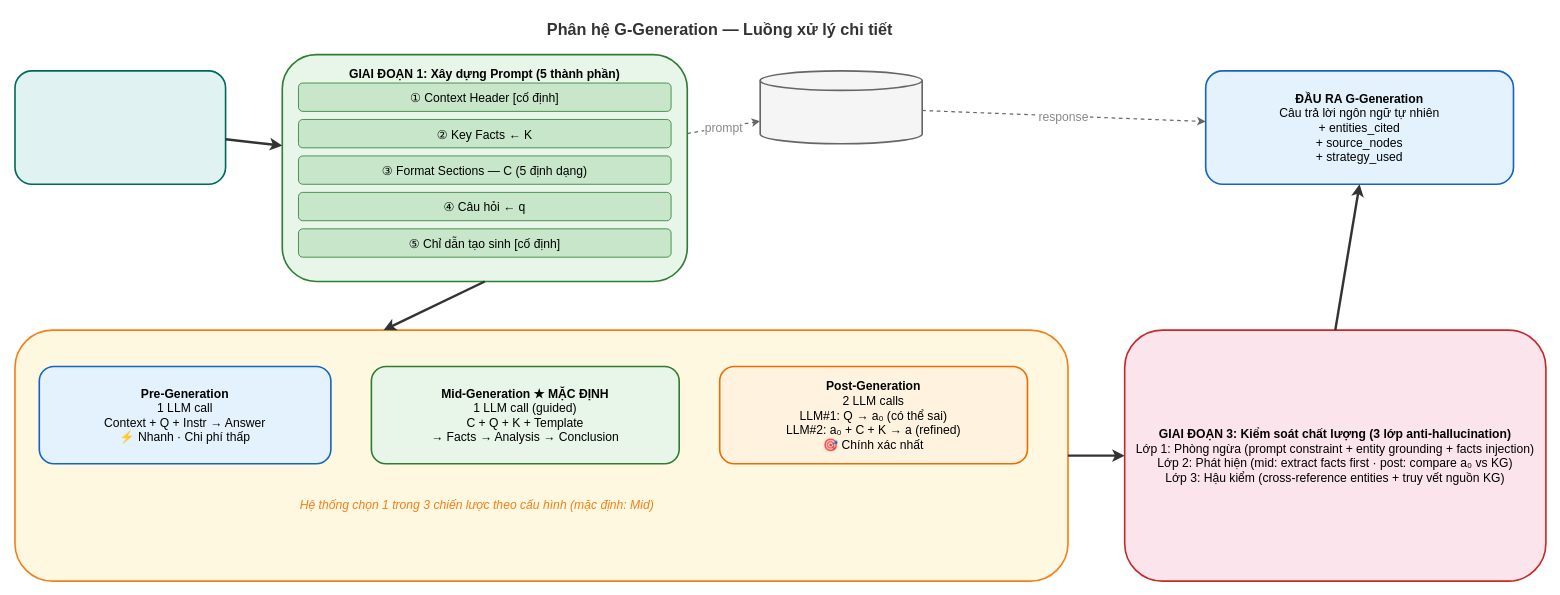
Image size: 1560x595. Some labels were removed from this diagram. Each missing label, with the box of its shape:
GIAI ĐOẠN 2: Chiến lược tạo sinh (3 chiến lược): (14, 329, 1068, 582)
LLM (via LiteLLM) Gemini / GPT / Claude: (759, 70, 923, 144)
ĐẦU VÀO (từ G-Retrieval) formatted_contexts C key_facts K question q: (14, 70, 226, 185)
